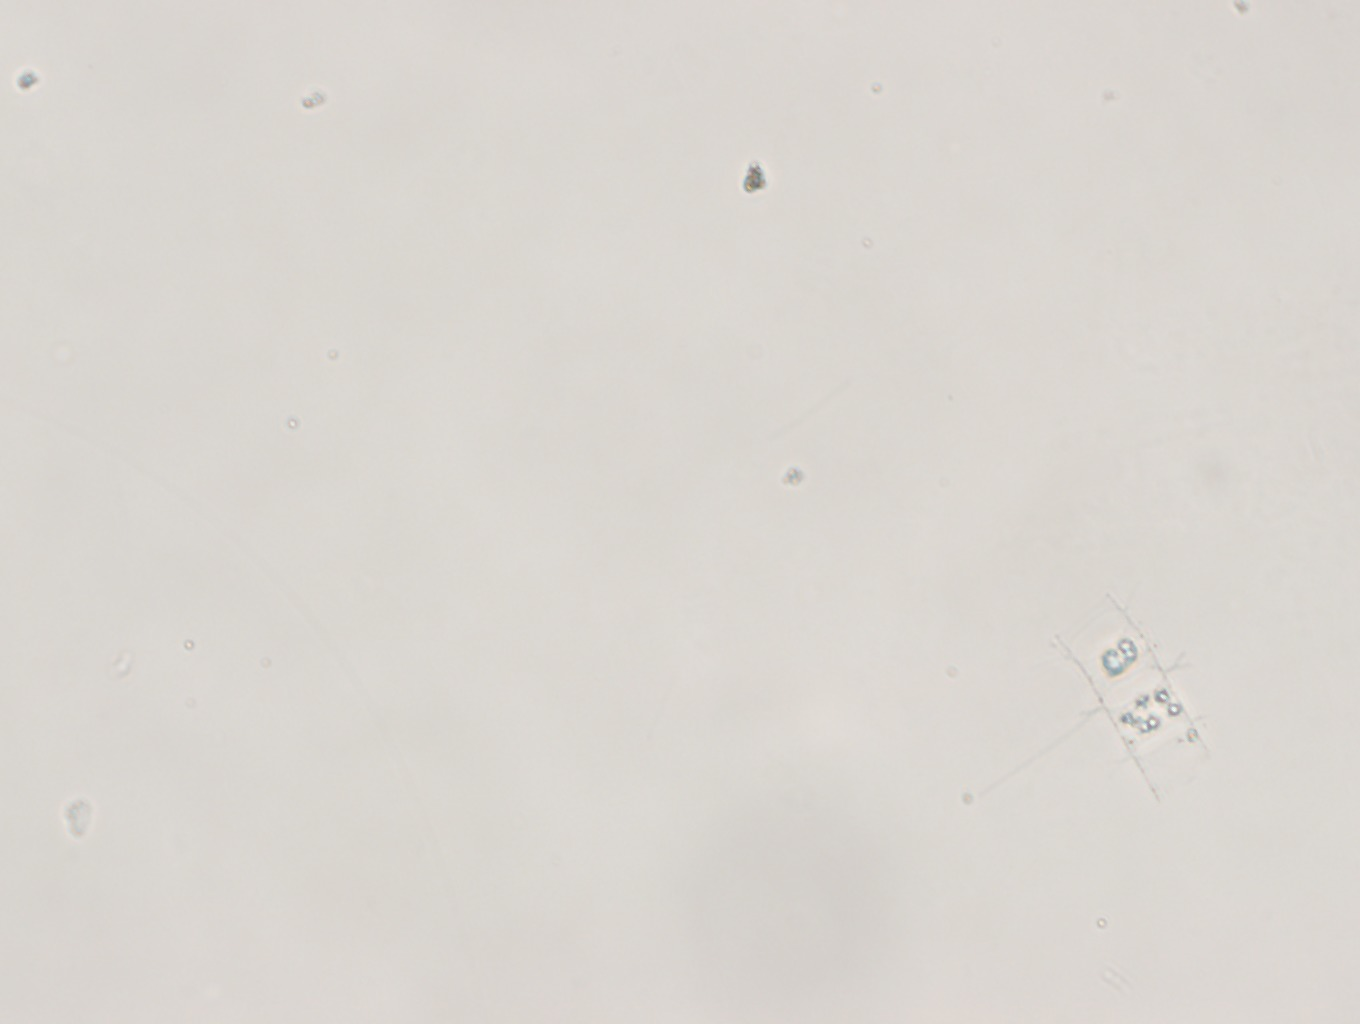chaetoceros: (953, 575, 1262, 874)
